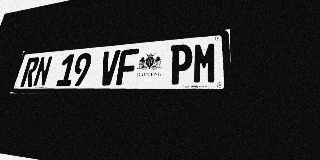1: (56, 54, 77, 86)
9: (71, 52, 93, 86)
F: (116, 48, 139, 85)
M: (192, 41, 217, 84)
N: (32, 56, 53, 87)
P: (168, 44, 193, 85)
R: (20, 57, 40, 87)
V: (98, 50, 121, 86)
